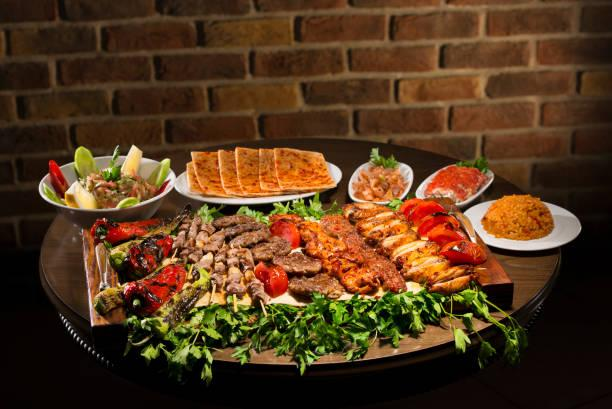Braised Crucian Carp: (90, 195, 508, 336), (37, 145, 175, 227), (176, 145, 344, 205), (467, 194, 585, 253), (416, 158, 495, 208), (347, 160, 414, 204)
